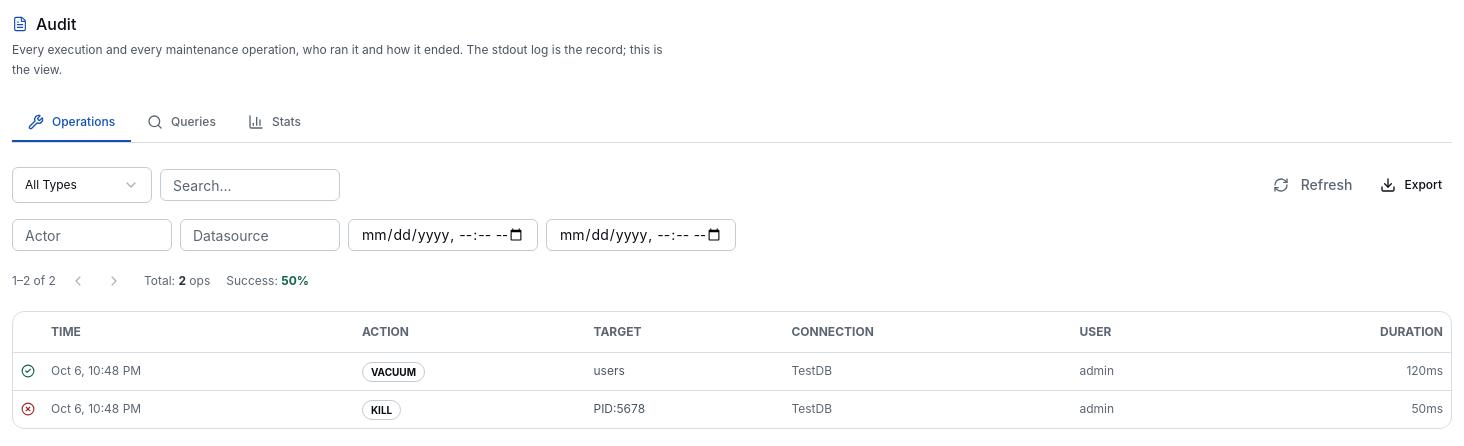
Test: AuditTab › queries tab shows the empty state when nothing matches the search
Click the tab "Queries" at coordinates (182, 122), box [131,103,232,142]
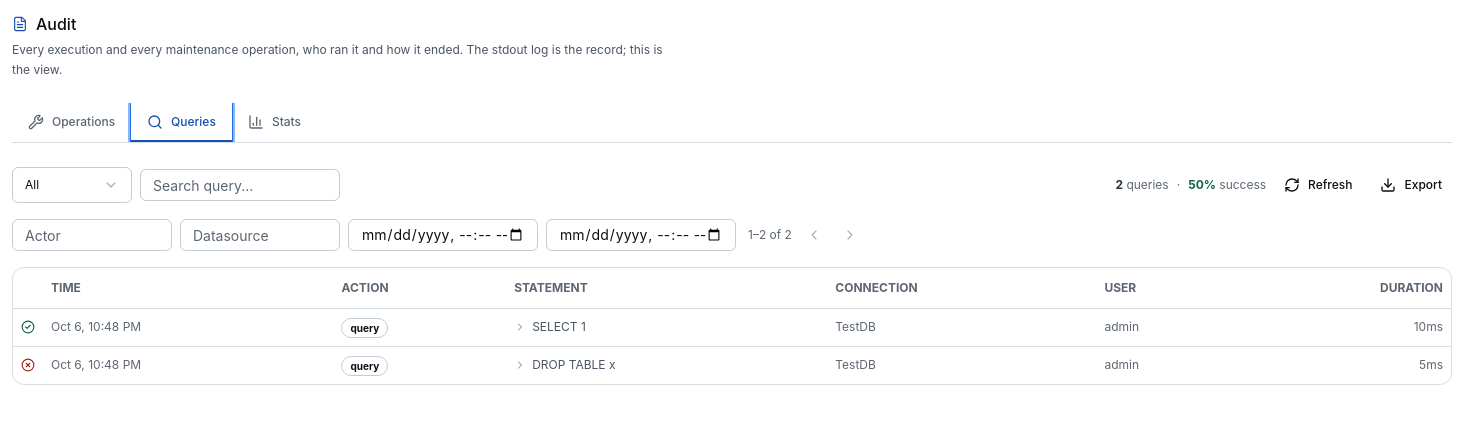
Check: the text "SELECT 1" is shown, box [532,319,586,335]
Type "zzzz" into the field with placeholder "Search query..." at coordinates (240, 185), box [140,169,340,201]
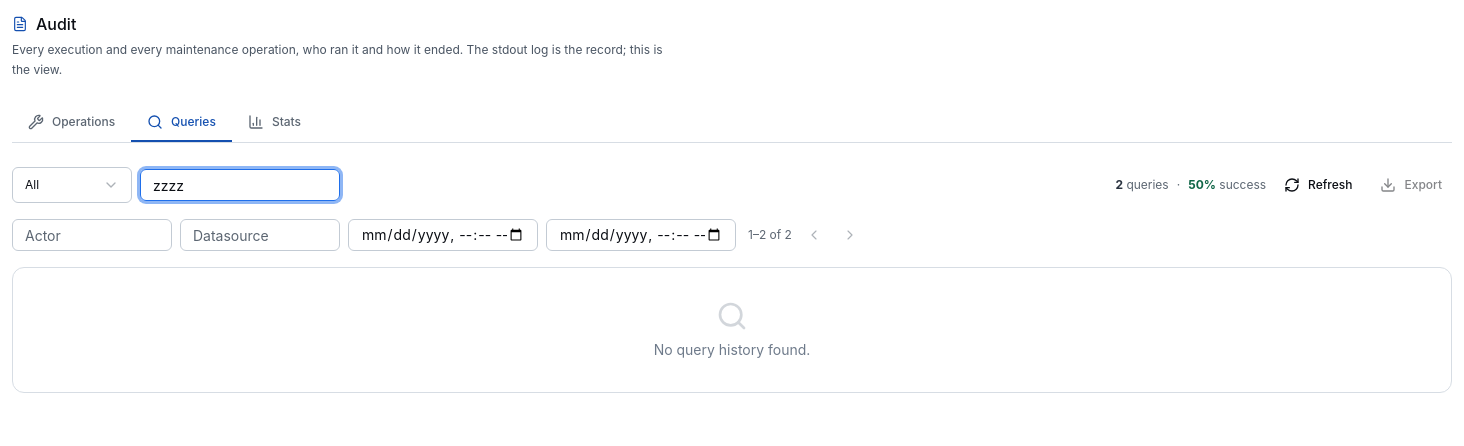
Check: the text "No query history found." is shown, box [654,341,810,358]
